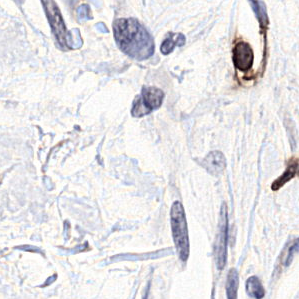Lymphocyte: (229, 40, 257, 72)
